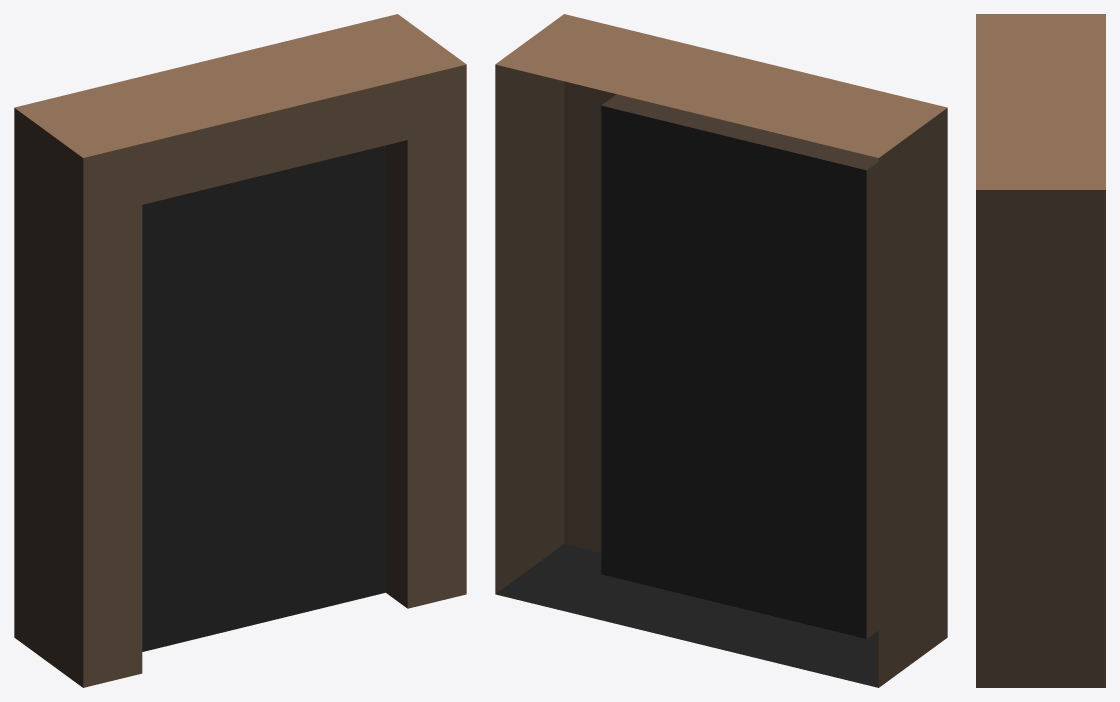
The model's file is TB_D_Bd_Sqr_DoorFrame_A.FBX.
3 views of the same model, side by side, from view 1: azimuth 30°, elevation 25°; view 2: azimuth 150°, elevation 25°; view 3: azimuth 270°, elevation 25° (orthographic). The views are drawn at different scales.
Parts seen in each view (by area): view 1: TB_D_Bd_Sqr_DoorFrame_A; view 2: TB_D_Bd_Sqr_DoorFrame_A; view 3: TB_D_Bd_Sqr_DoorFrame_A.
Part boxes in pixels (x1,y1,x2,y2): TB_D_Bd_Sqr_DoorFrame_A: (14,14,466,687); TB_D_Bd_Sqr_DoorFrame_A: (495,14,947,687); TB_D_Bd_Sqr_DoorFrame_A: (976,14,1105,687).
Bounding box in the file's own units: 1.3 × 1.71 × 0.4047.
